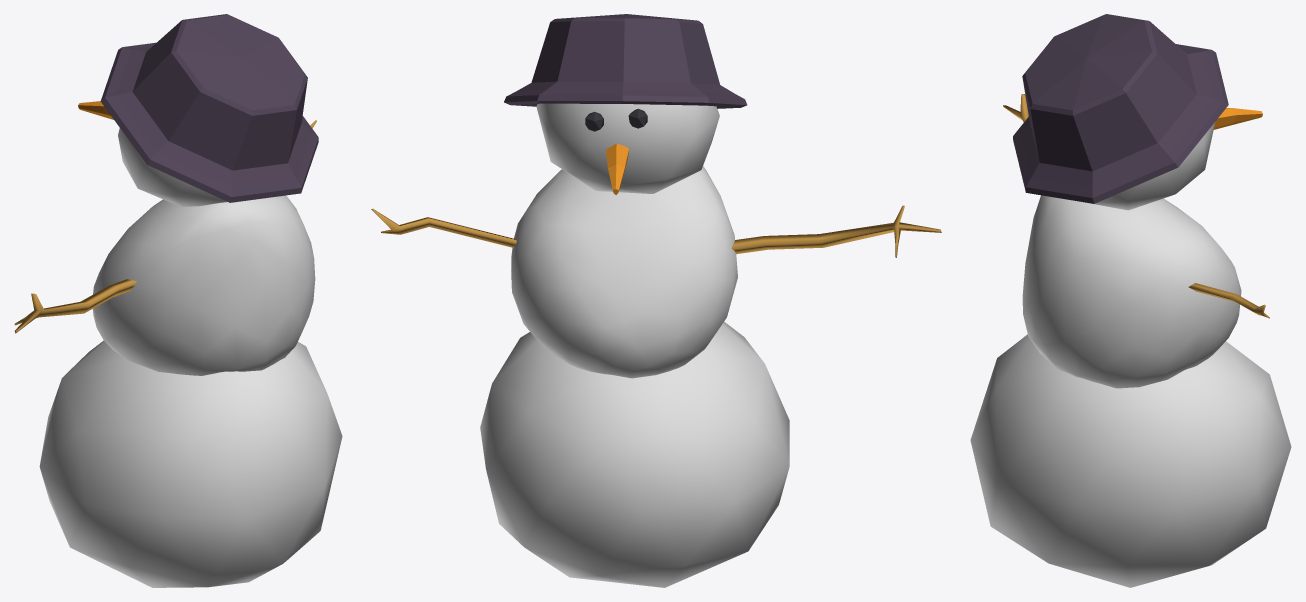
File: Snowman.fbx
3 views of the same model, side by side, from view 1: azimuth 30°, elevation 25°; view 2: azimuth 150°, elevation 25°; view 3: azimuth 270°, elevation 25° (orthographic).
Visible parts, largest first — view 1: BaseBall, MiddleBall, Circle, HeadBall, Hand; view 2: BaseBall, MiddleBall, Circle, HeadBall, Hand, Hand2, Carrot; view 3: BaseBall, MiddleBall, Circle, HeadBall, Hand2, Carrot.
Boxes of the visible parts, <box> form: BaseBall: <box>39,340,342,587</box>; MiddleBall: <box>92,195,315,375</box>; Circle: <box>100,14,318,202</box>; HeadBall: <box>118,128,227,206</box>; Hand: <box>14,279,136,333</box>; BaseBall: <box>480,321,789,587</box>; MiddleBall: <box>511,166,737,378</box>; Circle: <box>504,14,747,108</box>; HeadBall: <box>536,103,719,193</box>; Hand: <box>731,205,941,257</box>; Hand2: <box>371,209,516,247</box>; Carrot: <box>606,143,629,194</box>; BaseBall: <box>970,334,1291,587</box>; MiddleBall: <box>1022,195,1241,388</box>; Circle: <box>1013,14,1228,203</box>; HeadBall: <box>1092,122,1215,210</box>; Hand2: <box>1188,283,1269,318</box>; Carrot: <box>1213,108,1262,129</box>.
Bounding box in the file's own units: 469 × 557 × 301.
